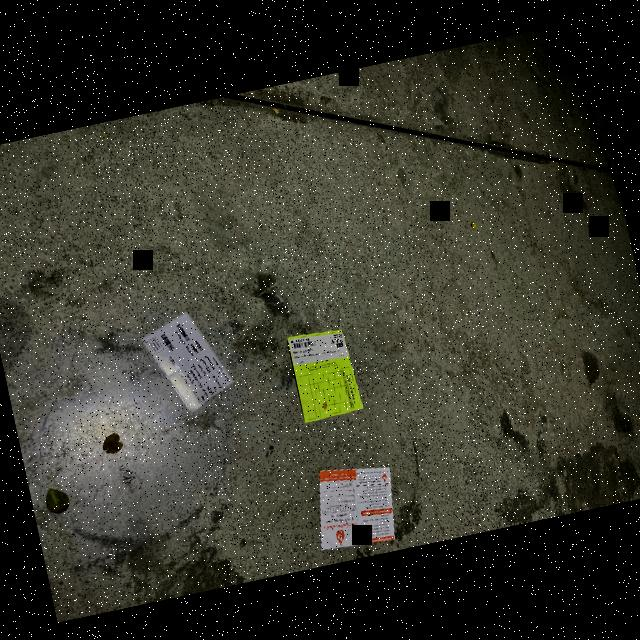scrap_paper: (127, 294, 245, 430), (298, 452, 410, 558), (280, 320, 374, 428)
